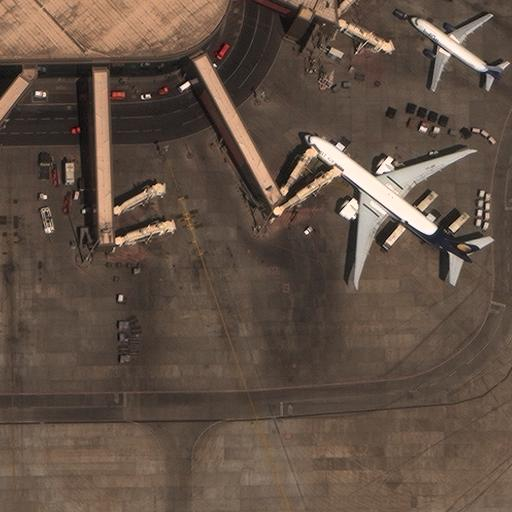Large Civil Transport: (304, 136, 471, 283)
Medium Civil Transport: (409, 13, 503, 90)
